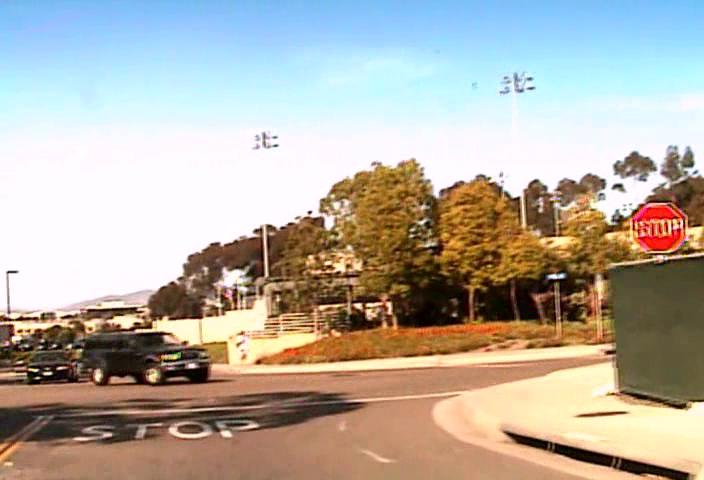stop: (632, 202, 686, 252)
